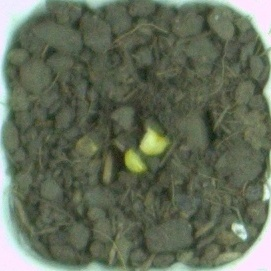pepper seed: (54, 50, 224, 205), (49, 62, 199, 236)
